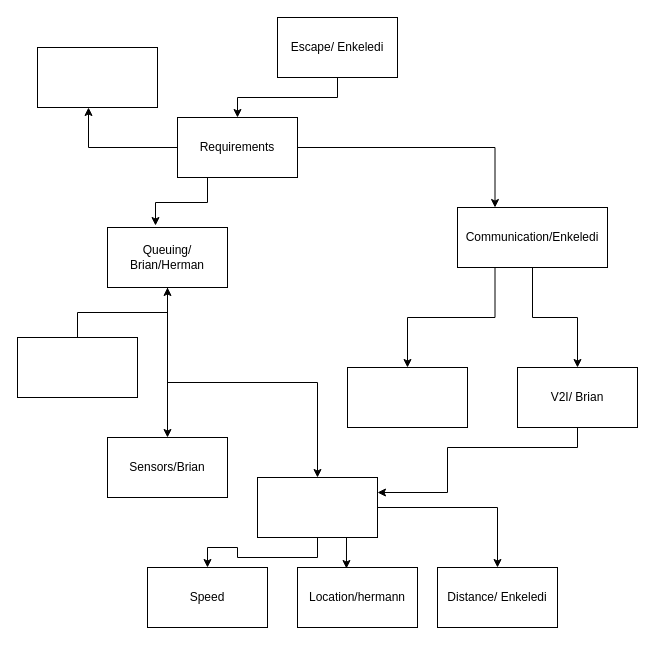
The diagram is 655 pixels wide and 645 high, and some of its shapes have lost their labels. Each missing label, with the centre of its shape:
"Algorithm/Enkeledi" belongs at (x=77, y=367).
"Control UNIT/ Hermann" belongs at (x=317, y=507).
"Power / Herman" belongs at (x=97, y=77).
"V2V/Brian" belongs at (x=407, y=397).
